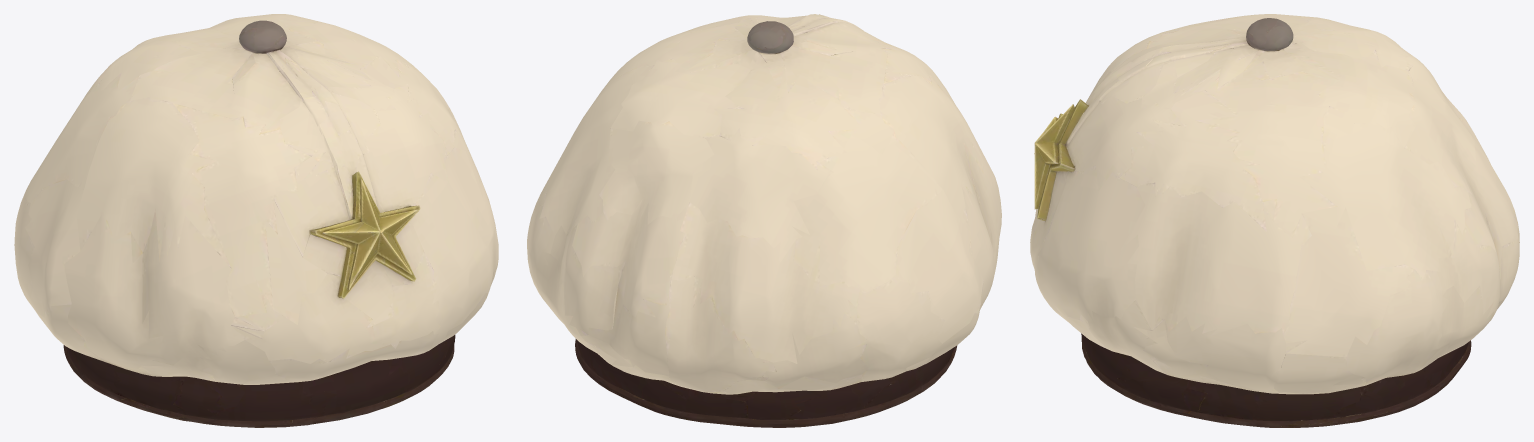
File: beret.glb
3 renders of one model, left to right at view 1: azimuth 30°, elevation 25°; view 2: azimuth 150°, elevation 25°; view 3: azimuth 270°, elevation 25°, orthographic. The views are drawn at different scales.
Bounding box in the file's own units: 1.9 × 1.4 × 1.88.
Materials: 1 (1 with a texture image).
